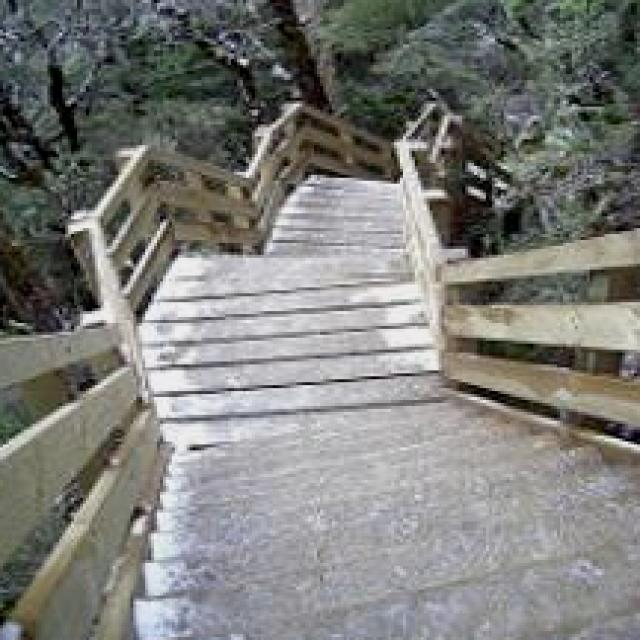downstair: (176, 493, 626, 640)
